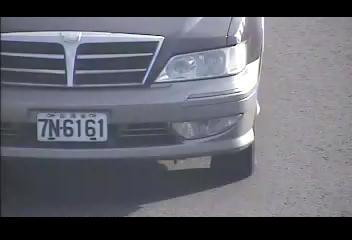plate: (34, 111, 109, 143)
